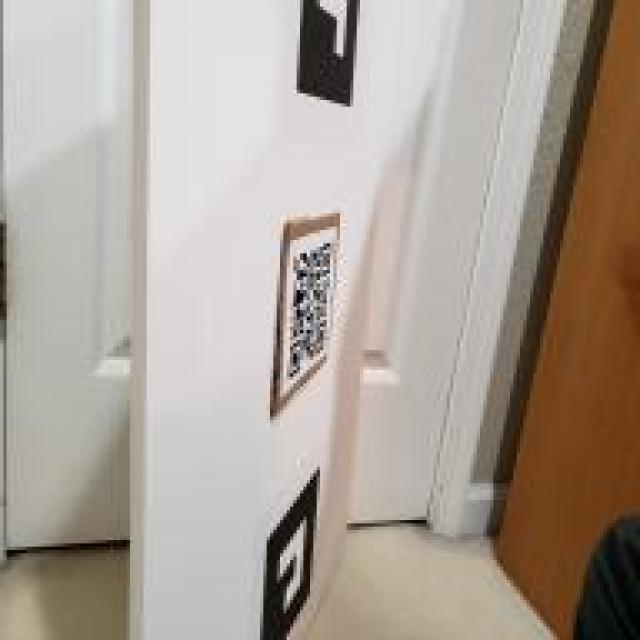QR_CODE: (275, 234, 337, 388)
